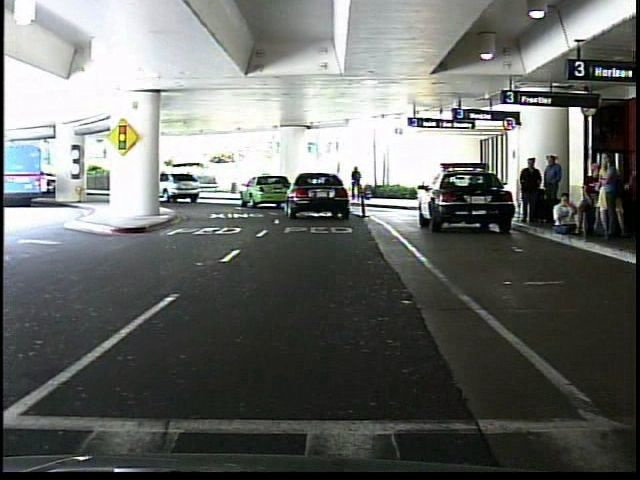person: (541, 150, 563, 228), (520, 152, 544, 223), (350, 164, 366, 205)
